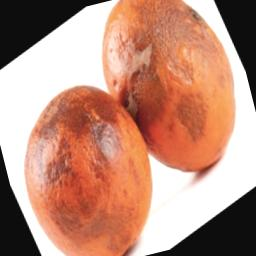Orange Rotten: (0, 41, 179, 256), (84, 0, 255, 201)
